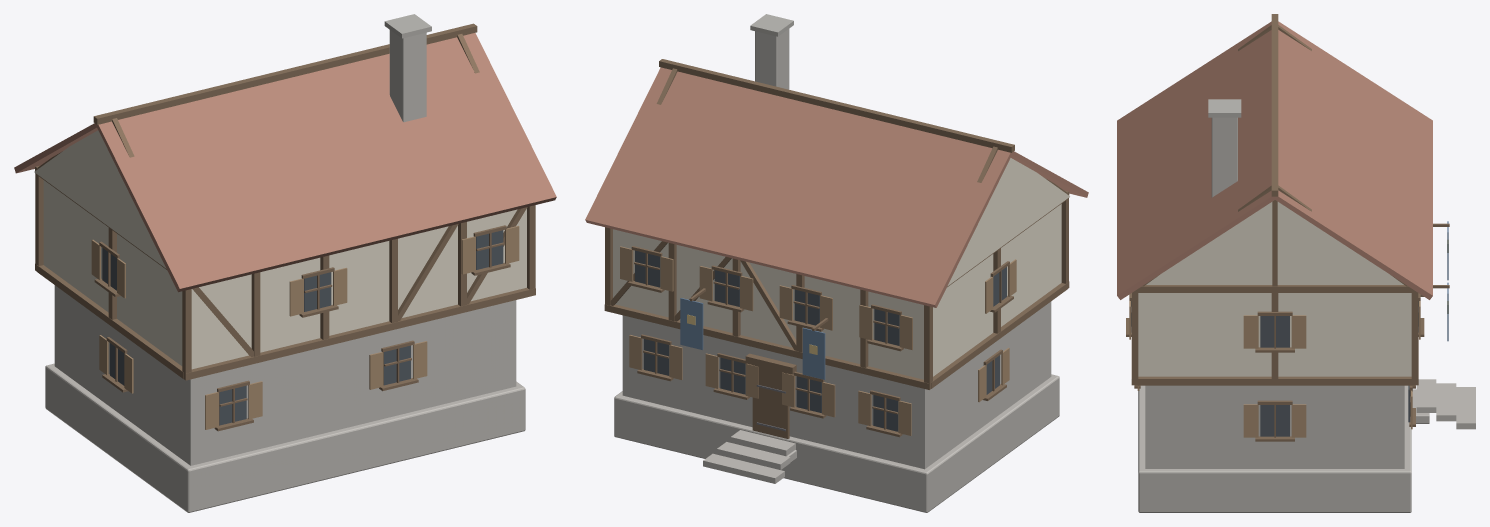
File: vogthaus.glb
3 views of the same model, side by side, from view 1: azimuth 30°, elevation 25°; view 2: azimuth 150°, elevation 25°; view 3: azimuth 270°, elevation 25° (orthographic). The views are drawn at different scales.
Visible parts, largest first — view 1: vogthaus; view 2: vogthaus; view 3: vogthaus.
Boxes of the visible parts, x1=… form: vogthaus: x1=14, y1=14, x2=556, y2=512; vogthaus: x1=585, y1=14, x2=1088, y2=512; vogthaus: x1=1117, y1=14, x2=1475, y2=512.
Bounding box in the file's own units: 12.7 × 12.52 × 10.9.
